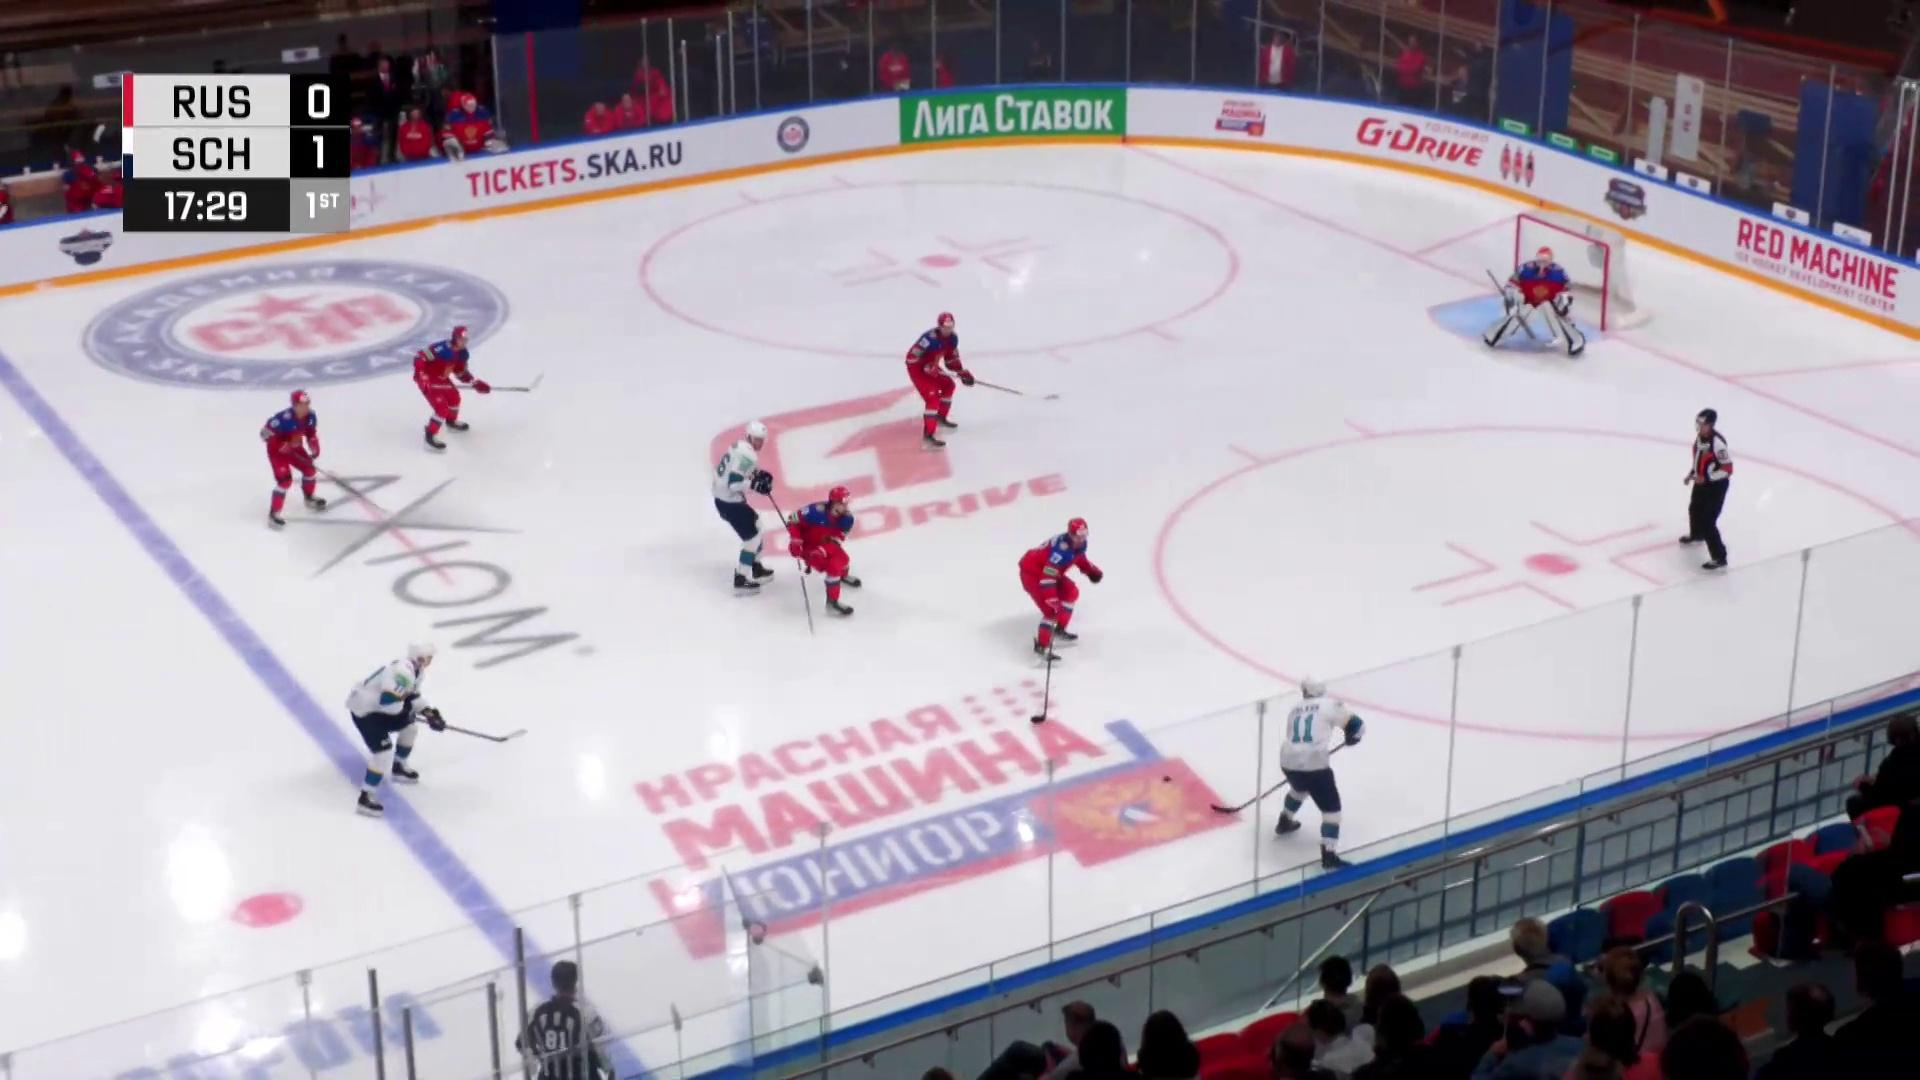ball: (1163, 775, 1172, 783)
